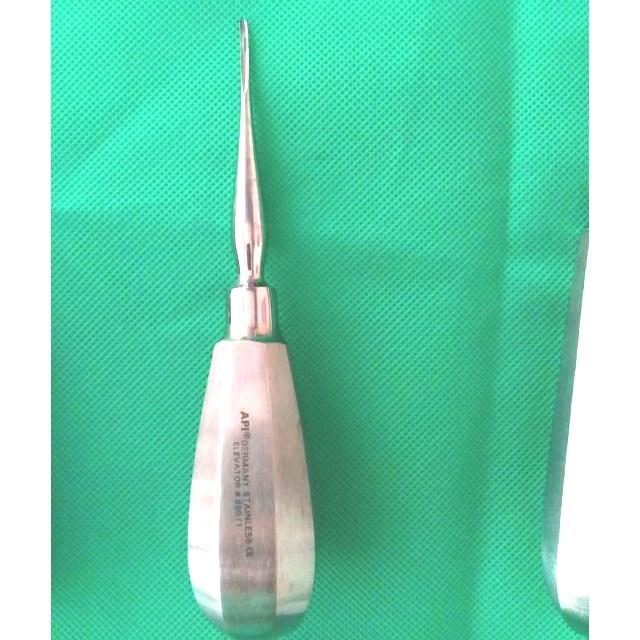botador: (187, 18, 316, 637)
